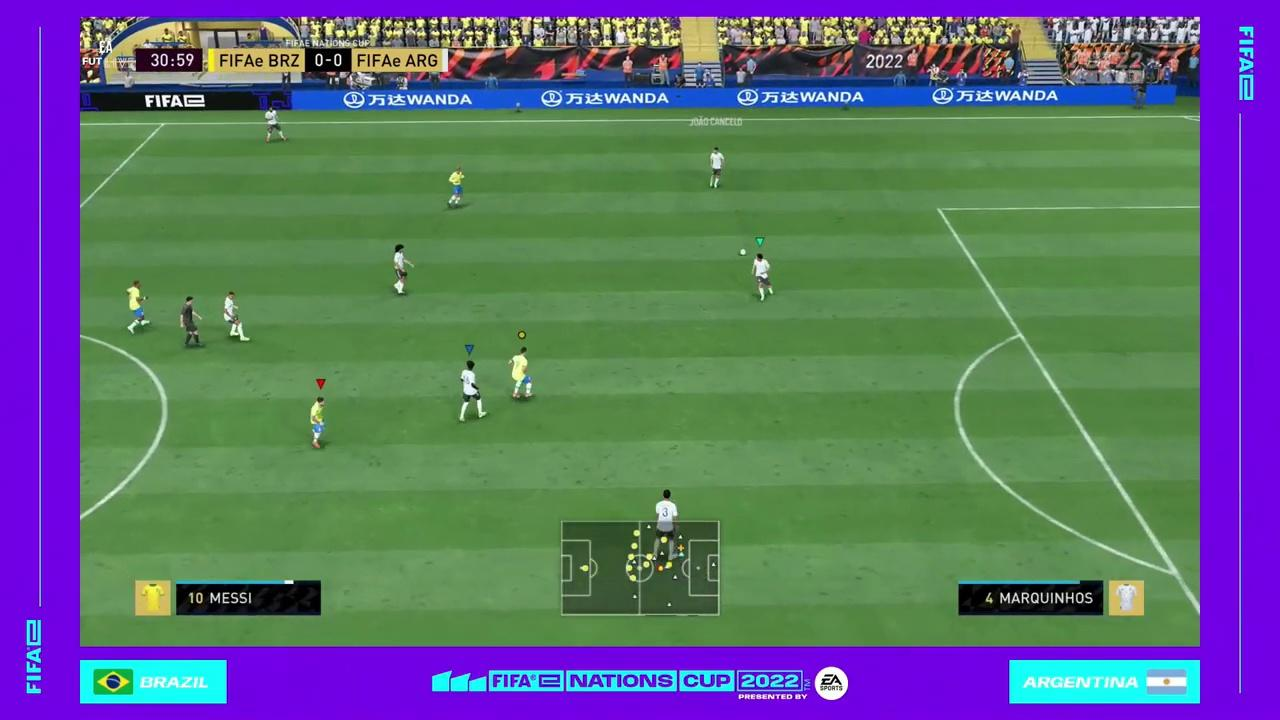scoreboard: (209, 44, 451, 70)
timestamp: (138, 42, 204, 71)
